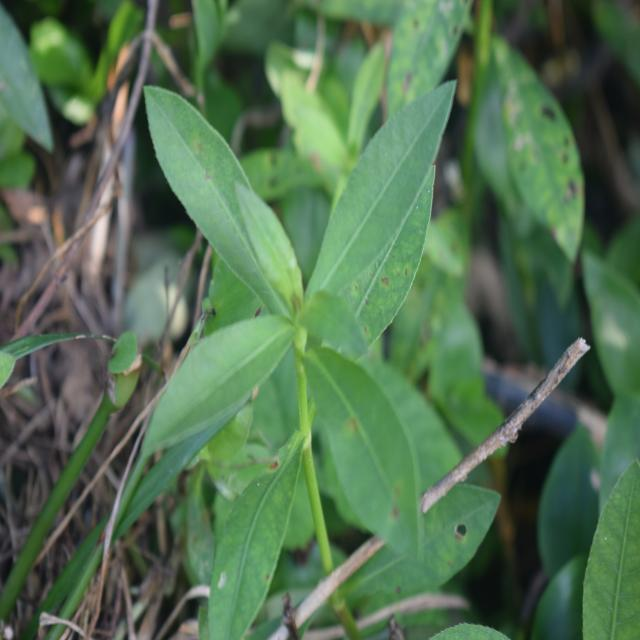Alligatorweed: (127, 51, 450, 591)
